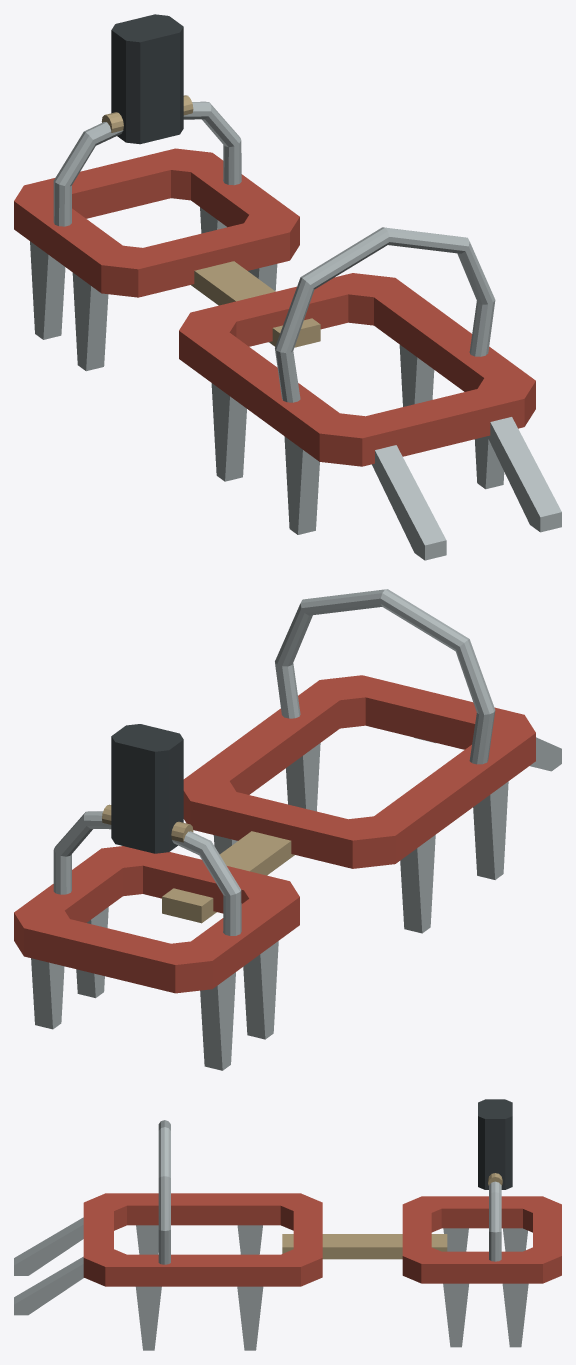
3 views of the same model, one above another, from view 1: azimuth 30°, elevation 25°; view 2: azimuth 150°, elevation 25°; view 3: azimuth 270°, elevation 25° (orthographic). The views are drawn at different scales.
Parts seen in each view (by area): view 1: WholeOpenForefootFrame, WholeOpenHeelFrame, WholeFixedHeelLever, WholeFrontFootBail, WholeRearHeelBail, WholeFrontProjectingBluntTooth1, WholeFrontProjectingBluntTooth0, WholeNarrowConnectingStrip, WholeDownwardBluntTooth2_0, WholeDownwardBluntTooth1_0, WholeDownwardBluntTooth3_0, WholeDownwardBluntTooth0_0 (+2 smaller); view 2: WholeOpenForefootFrame, WholeOpenHeelFrame, WholeFixedHeelLever, WholeFrontFootBail, WholeRearHeelBail, WholeNarrowConnectingStrip, WholeDownwardBluntTooth3_0, WholeDownwardBluntTooth1_0, WholeDownwardBluntTooth2_0, WholeDownwardBluntTooth0_0, WholeDownwardBluntTooth3_1, WholeDownwardBluntTooth0_1 (+2 smaller); view 3: WholeOpenForefootFrame, WholeOpenHeelFrame, WholeFixedHeelLever, WholeNarrowConnectingStrip, WholeFrontFootBail, WholeFrontProjectingBluntTooth1, WholeFrontProjectingBluntTooth0, WholeDownwardBluntTooth1_1, WholeDownwardBluntTooth0_1, WholeDownwardBluntTooth3_1, WholeDownwardBluntTooth2_1, WholeRearHeelBail (+4 smaller).
Part boxes in pixels (x1=…): WholeOpenForefootFrame: x1=179, y1=273, x2=535, y2=466; WholeOpenHeelFrame: x1=14, y1=148, x2=299, y2=297; WholeFixedHeelLever: x1=111, y1=14, x2=183, y2=144; WholeFrontFootBail: x1=275, y1=227, x2=495, y2=402; WholeRearHeelBail: x1=53, y1=101, x2=241, y2=226; WholeFrontProjectingBluntTooth1: x1=487, y1=417, x2=561, y2=532; WholeFrontProjectingBluntTooth0: x1=372, y1=445, x2=446, y2=560; WholeNarrowConnectingStrip: x1=191, y1=261, x2=320, y2=347; WholeDownwardBluntTooth2_0: x1=72, y1=272, x2=108, y2=371; WholeDownwardBluntTooth1_0: x1=211, y1=383, x2=246, y2=481; WholeDownwardBluntTooth3_0: x1=30, y1=241, x2=65, y2=339; WholeDownwardBluntTooth0_0: x1=284, y1=436, x2=319, y2=534; WholeOpenForefootFrame: x1=183, y1=675, x2=535, y2=868; WholeOpenHeelFrame: x1=14, y1=846, x2=299, y2=993; WholeFixedHeelLever: x1=111, y1=724, x2=183, y2=853; WholeFrontFootBail: x1=275, y1=589, x2=495, y2=764; WholeRearHeelBail: x1=53, y1=811, x2=241, y2=935; WholeNarrowConnectingStrip: x1=162, y1=831, x2=294, y2=923; WholeDownwardBluntTooth3_0: x1=200, y1=972, x2=235, y2=1070; WholeDownwardBluntTooth1_0: x1=400, y1=835, x2=435, y2=933; WholeDownwardBluntTooth2_0: x1=243, y1=941, x2=278, y2=1039; WholeDownwardBluntTooth0_0: x1=473, y1=781, x2=508, y2=879; WholeDownwardBluntTooth3_1: x1=31, y1=958, x2=64, y2=1029; WholeDownwardBluntTooth0_1: x1=286, y1=743, x2=320, y2=811; WholeOpenForefootFrame: x1=83, y1=1193, x2=322, y2=1286; WholeOpenHeelFrame: x1=402, y1=1196, x2=561, y2=1283; WholeFixedHeelLever: x1=478, y1=1099, x2=512, y2=1189; WholeNarrowConnectingStrip: x1=282, y1=1234, x2=447, y2=1259; WholeFrontFootBail: x1=158, y1=1120, x2=170, y2=1264; WholeFrontProjectingBluntTooth1: x1=14, y1=1256, x2=83, y2=1315; WholeFrontProjectingBluntTooth0: x1=14, y1=1217, x2=83, y2=1275; WholeDownwardBluntTooth1_1: x1=237, y1=1286, x2=263, y2=1350; WholeDownwardBluntTooth0_1: x1=136, y1=1286, x2=161, y2=1350; WholeDownwardBluntTooth3_1: x1=502, y1=1283, x2=528, y2=1347; WholeDownwardBluntTooth2_1: x1=443, y1=1283, x2=468, y2=1347; WholeRearHeelBail: x1=489, y1=1181, x2=501, y2=1261.
Size of the model in its own units: 0.1209 by 0.157 by 0.378.
